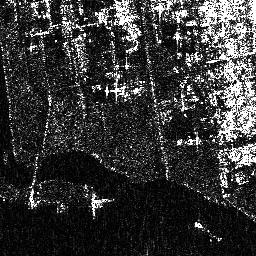ship: (192, 219, 223, 241)
